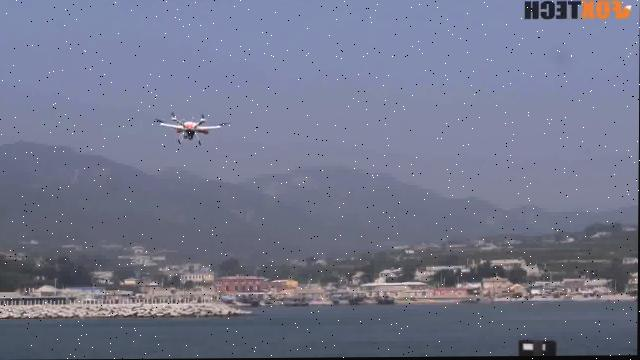drone: (151, 115, 230, 149)
